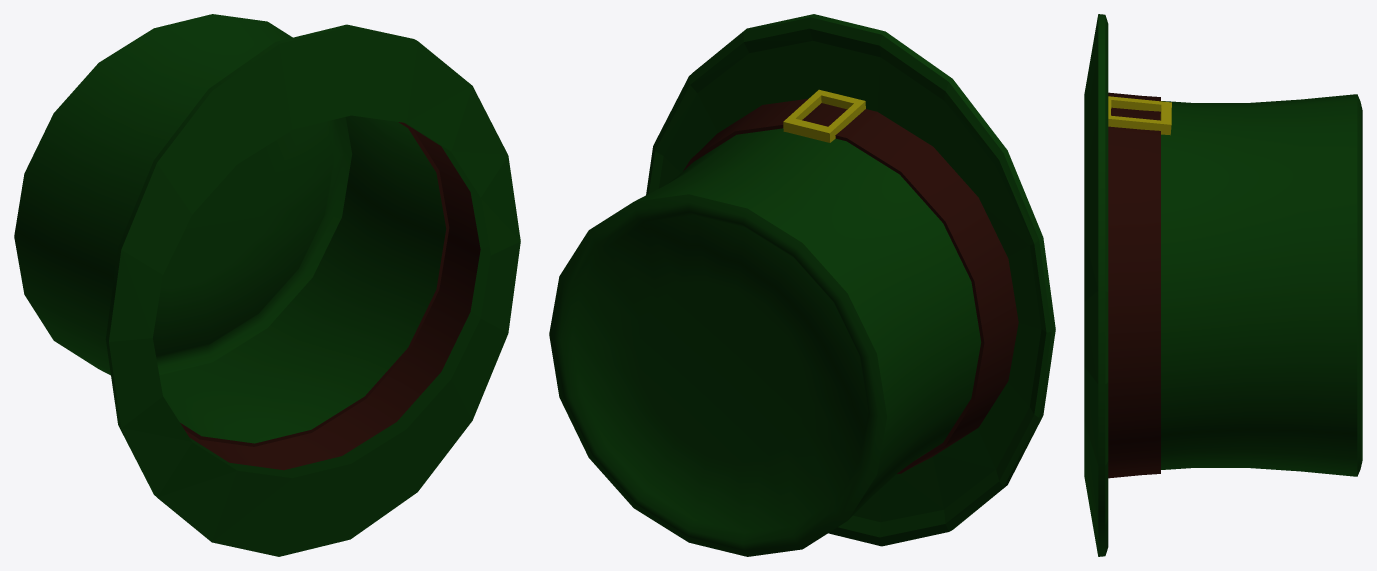
File: leprechaun.FBX
3 views of the same model, side by side, from view 1: azimuth 30°, elevation 25°; view 2: azimuth 150°, elevation 25°; view 3: azimuth 270°, elevation 25° (orthographic).
Parts seen in each view (by area): view 1: lepre hat; view 2: lepre hat; view 3: lepre hat.
Boxes of the visible parts, bbox=[...] form: lepre hat: bbox=[14, 14, 520, 556]; lepre hat: bbox=[549, 14, 1055, 556]; lepre hat: bbox=[1084, 14, 1362, 556].
Size of the model in its own units: 18.17 by 10.8 by 21.63.
